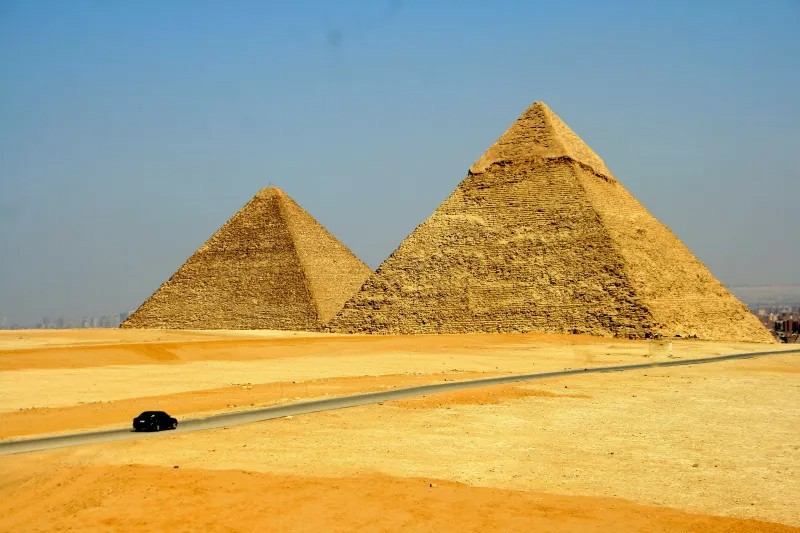Pyramid: (324, 100, 783, 348), (120, 185, 374, 332)
